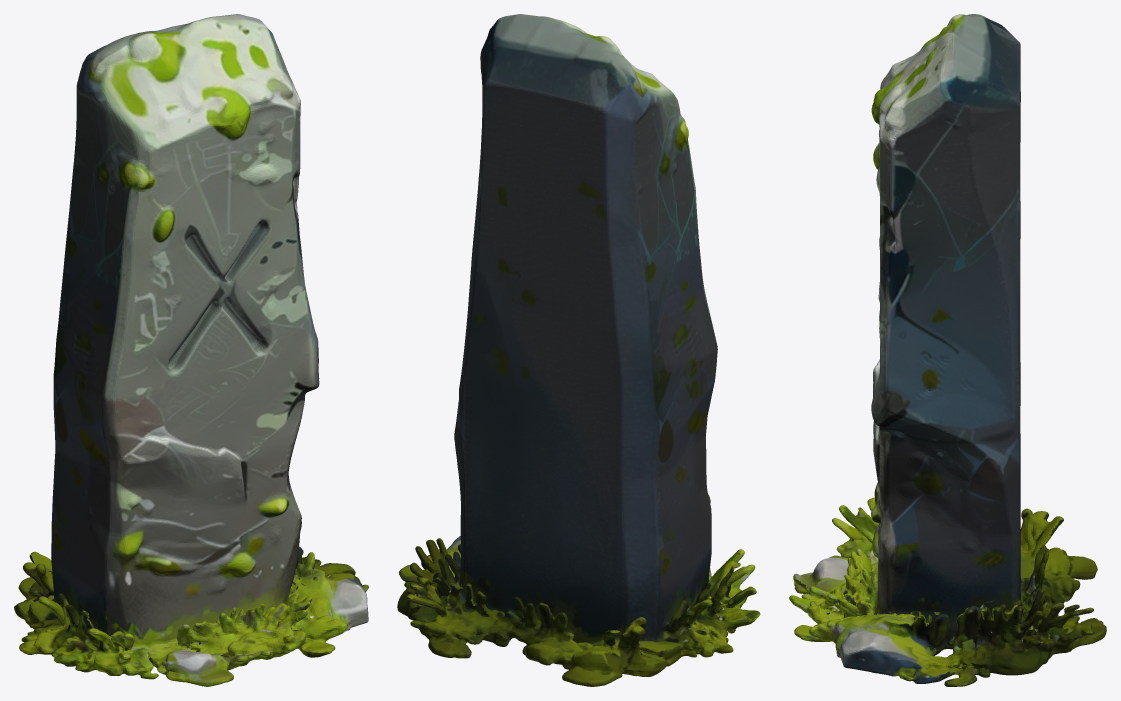
File: rock_menhir_paint.glb
3 views of the same model, side by side, from view 1: azimuth 30°, elevation 25°; view 2: azimuth 150°, elevation 25°; view 3: azimuth 270°, elevation 25° (orthographic).
Visible parts, largest first — view 1: temp_mesh.ply; view 2: temp_mesh.ply; view 3: temp_mesh.ply.
Part boxes in pixels (left/top/right/bottom): temp_mesh.ply: left=14, top=14, right=368, bottom=686; temp_mesh.ply: left=397, top=14, right=760, bottom=686; temp_mesh.ply: left=789, top=14, right=1106, bottom=686.
Size of the model in its own units: 1.16 by 1.97 by 0.9783.
1 material, 1 textured.
